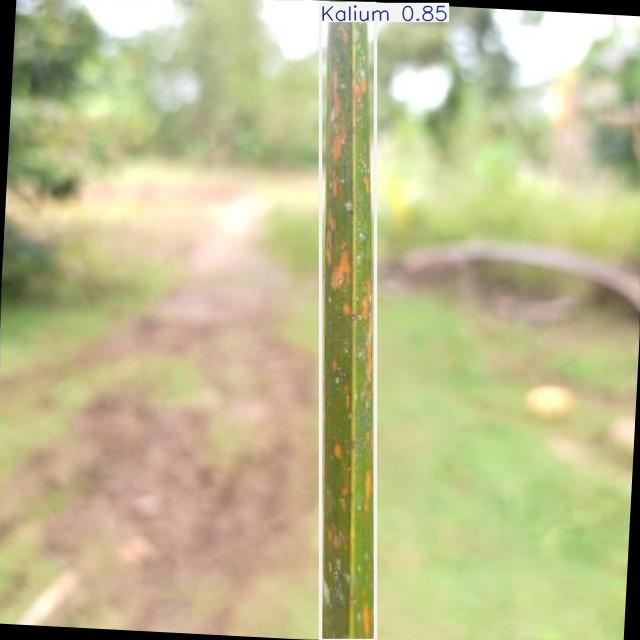Kalium: (320, 3, 376, 640)
